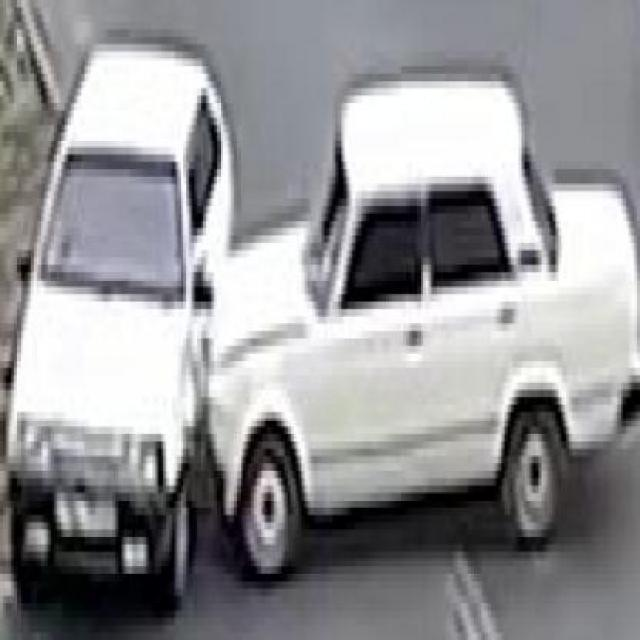accident: (0, 20, 603, 640)
